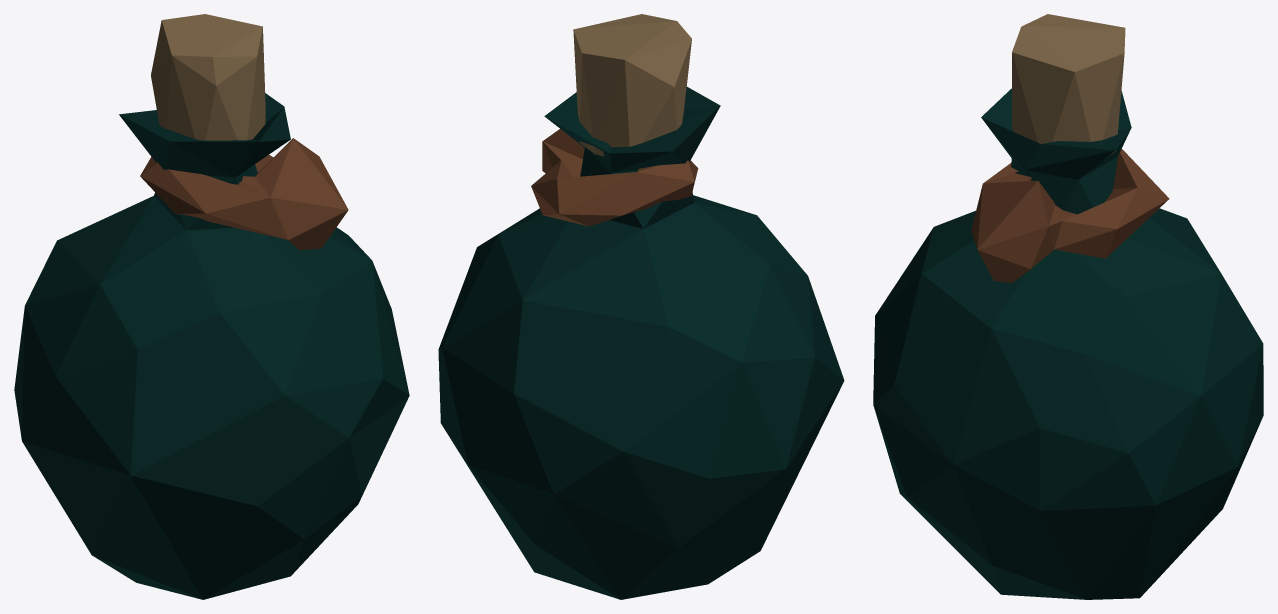
Rendered from MDungeon_Bottle_01.FBX.
3 views of the same model, side by side, from view 1: azimuth 30°, elevation 25°; view 2: azimuth 150°, elevation 25°; view 3: azimuth 270°, elevation 25° (orthographic).
Visible parts, largest first — view 1: MDungeon_Bottle_01_LOD0; view 2: MDungeon_Bottle_01_LOD0; view 3: MDungeon_Bottle_01_LOD0.
Part boxes in pixels (bbox=[...]): MDungeon_Bottle_01_LOD0: bbox=[14, 14, 409, 599]; MDungeon_Bottle_01_LOD0: bbox=[438, 14, 844, 599]; MDungeon_Bottle_01_LOD0: bbox=[873, 14, 1263, 599].
Size of what is drawn, in the model's own units: 0.3606 by 0.5405 by 0.3573.
1 material, 1 textured.
